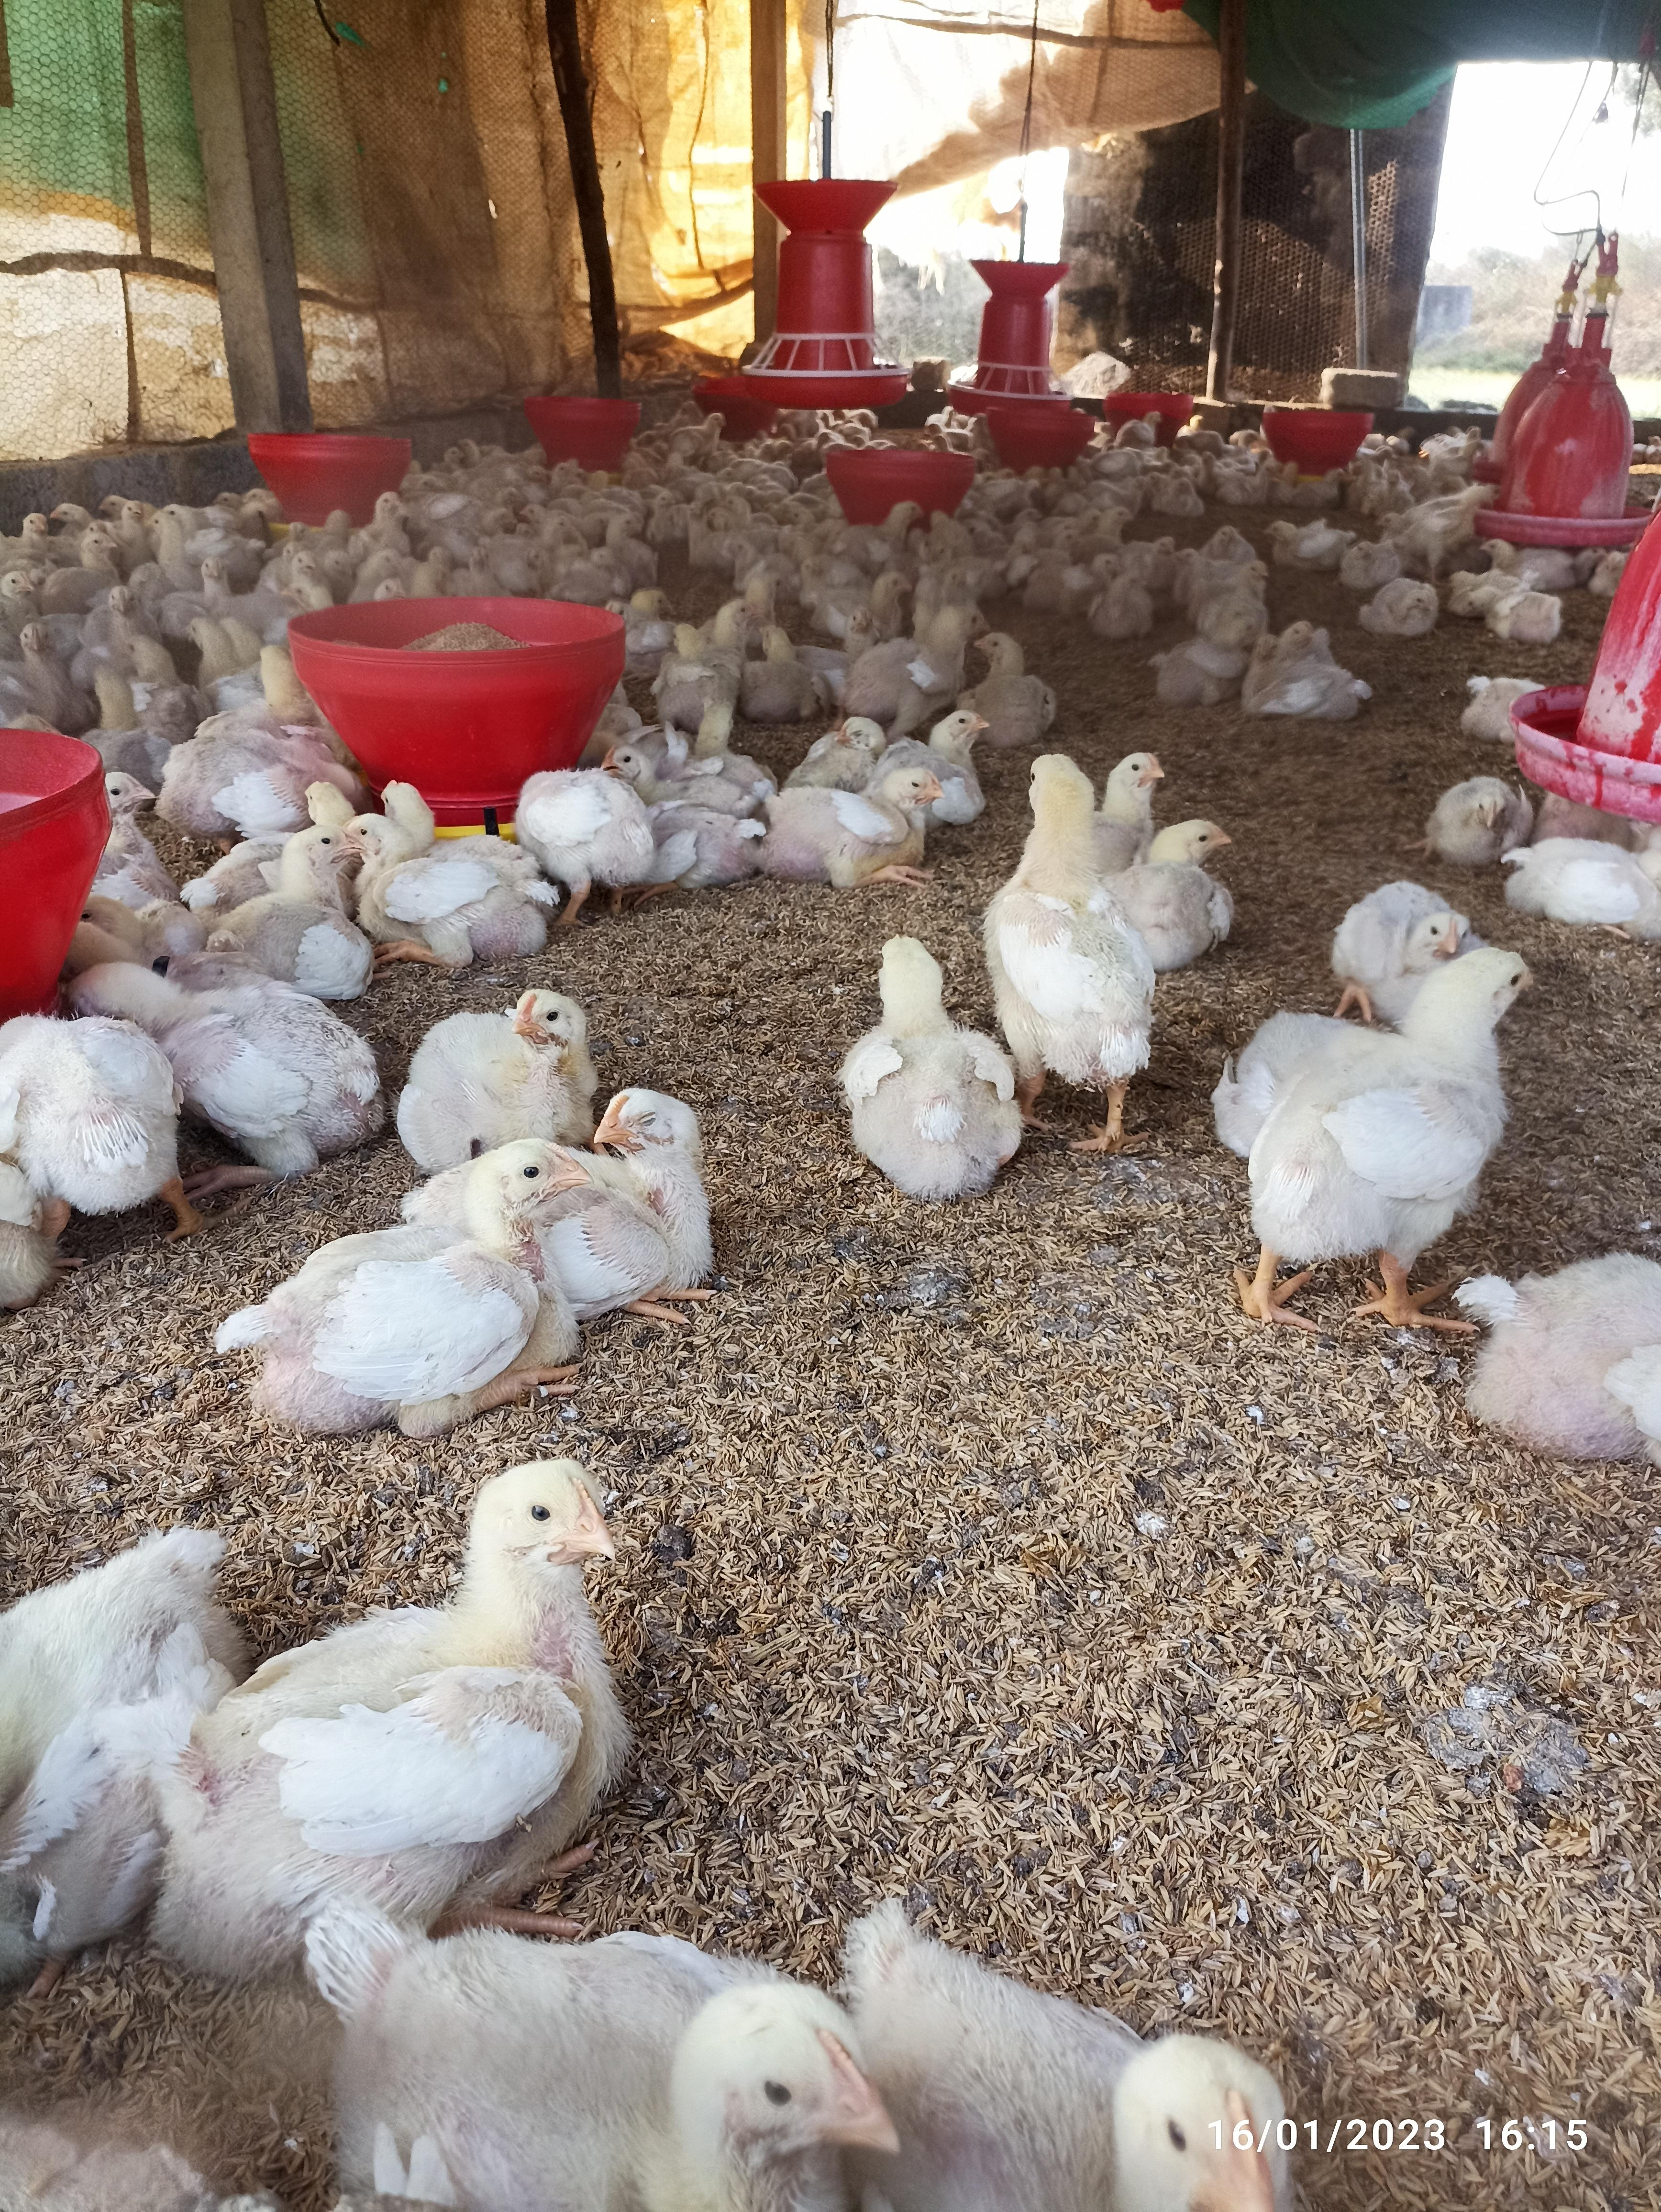Pollos: (197, 1453, 626, 1959), (286, 1910, 892, 2212), (899, 1907, 1309, 2210), (255, 1132, 576, 1443), (1223, 944, 1541, 1254), (70, 961, 389, 1160), (829, 930, 1031, 1200), (993, 755, 1148, 1069), (572, 1089, 740, 1308), (414, 980, 598, 1143), (342, 802, 541, 951), (757, 752, 942, 890), (497, 776, 707, 890), (229, 825, 363, 963), (1118, 816, 1234, 965), (843, 604, 982, 717), (660, 593, 762, 719), (1242, 621, 1371, 712), (1350, 881, 1466, 979), (1425, 769, 1537, 864), (970, 637, 1064, 729), (804, 570, 906, 630), (1466, 584, 1558, 645), (1363, 576, 1441, 635), (1096, 562, 1160, 628), (1267, 520, 1357, 567), (1464, 677, 1521, 734)
